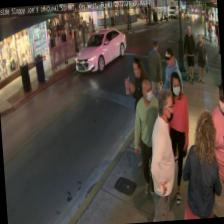person: (156, 70, 195, 204), (142, 88, 181, 221), (176, 110, 224, 218), (129, 78, 167, 201), (157, 47, 187, 162), (127, 56, 154, 168), (203, 80, 224, 216)
